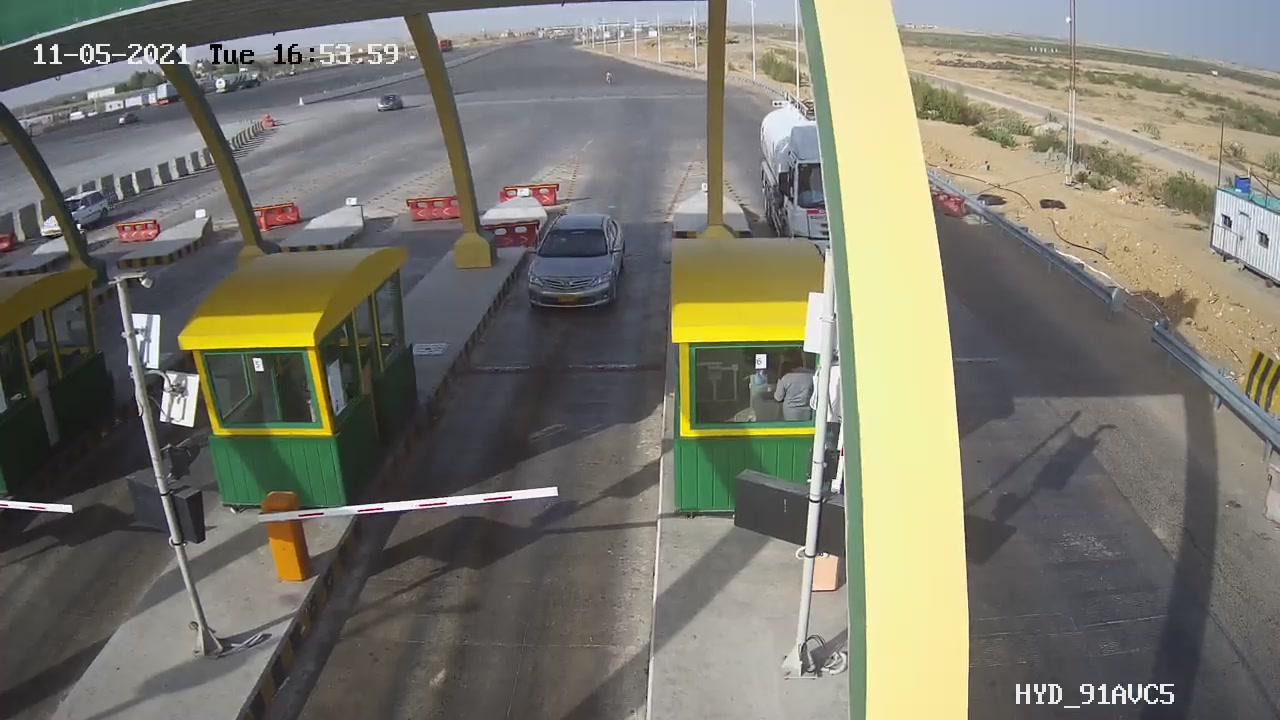F1: (505, 196, 650, 329)
